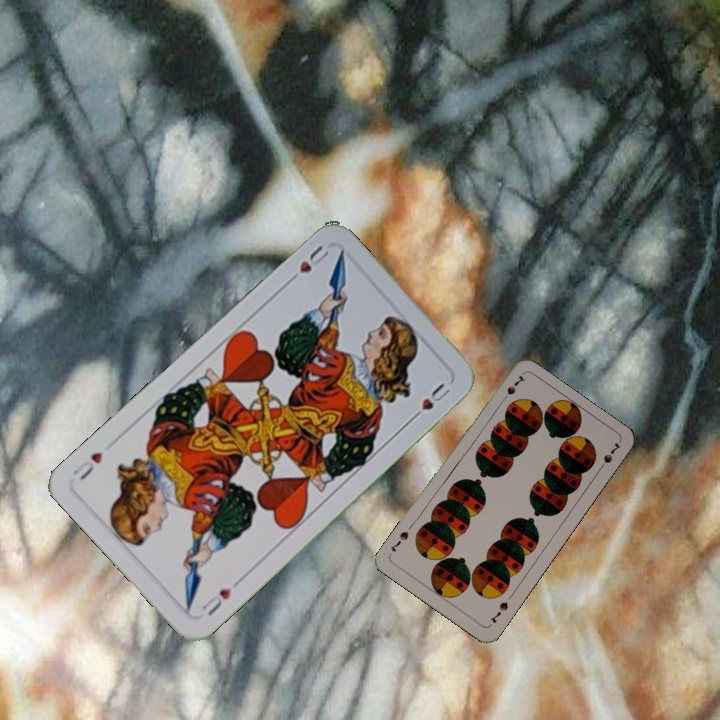HU: (283, 240, 332, 286), (197, 584, 235, 618)
S7: (486, 598, 511, 626), (497, 382, 518, 406)
